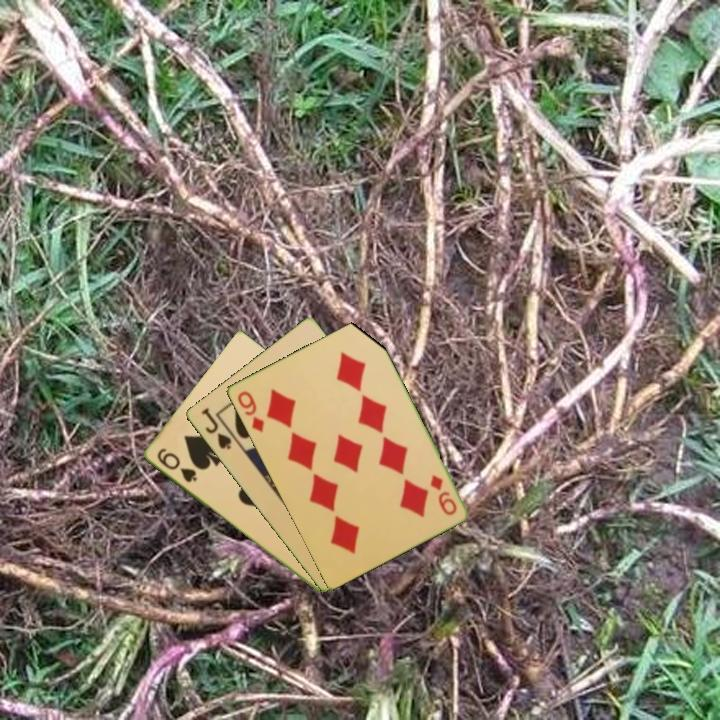6s: (153, 445, 199, 486)
9d: (233, 387, 267, 435), (426, 471, 460, 518)
Js: (197, 404, 234, 453)
